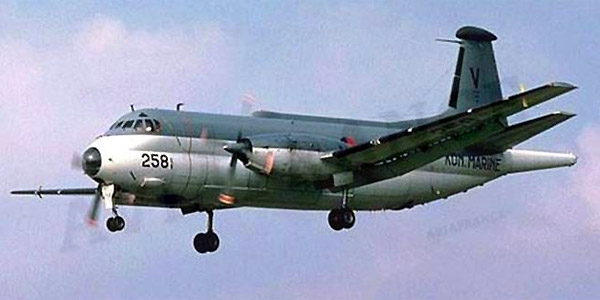Aeronef_militaire: (6, 23, 590, 256)
